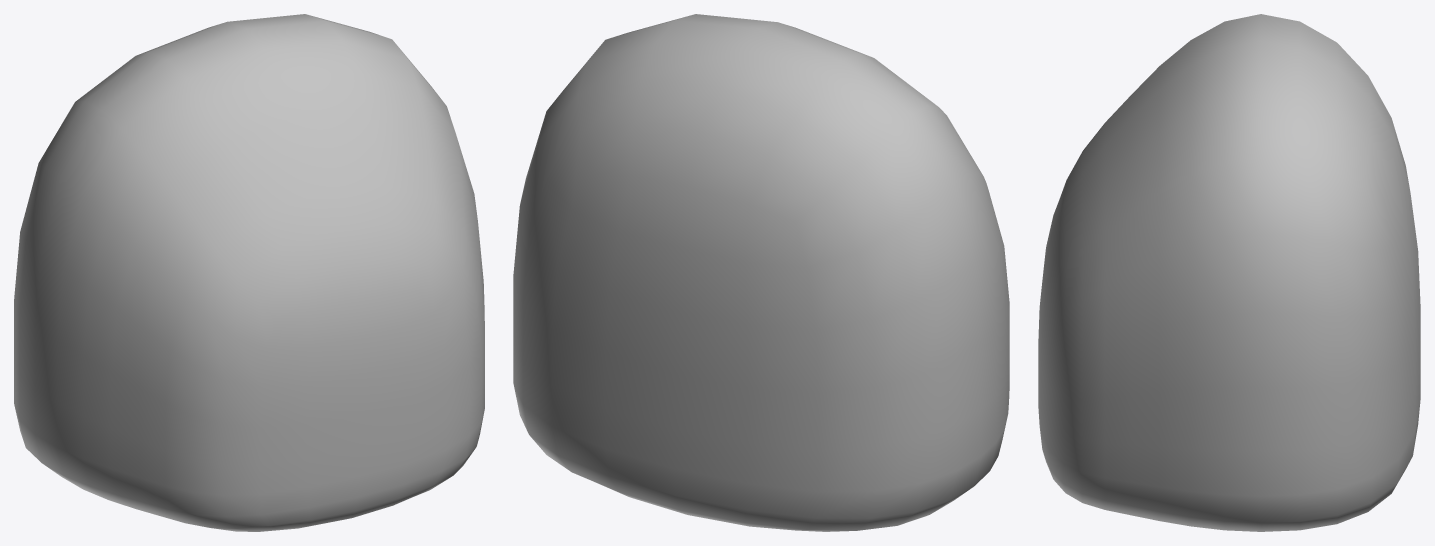
The model's file is Town_8_Stone_1.glb.
3 views of the same model, side by side, from view 1: azimuth 30°, elevation 25°; view 2: azimuth 150°, elevation 25°; view 3: azimuth 270°, elevation 25° (orthographic). The views are drawn at different scales.
Parts seen in each view (by area): view 1: Town_8_Stone_1; view 2: Town_8_Stone_1; view 3: Town_8_Stone_1.
Part boxes in pixels (x1,y1,x2,y2): Town_8_Stone_1: (14, 14, 484, 531); Town_8_Stone_1: (513, 14, 1009, 531); Town_8_Stone_1: (1038, 14, 1420, 531).
Bounding box in the file's own units: 1.62 × 1.55 × 1.28.
Materials: 1 (1 with a texture image).
